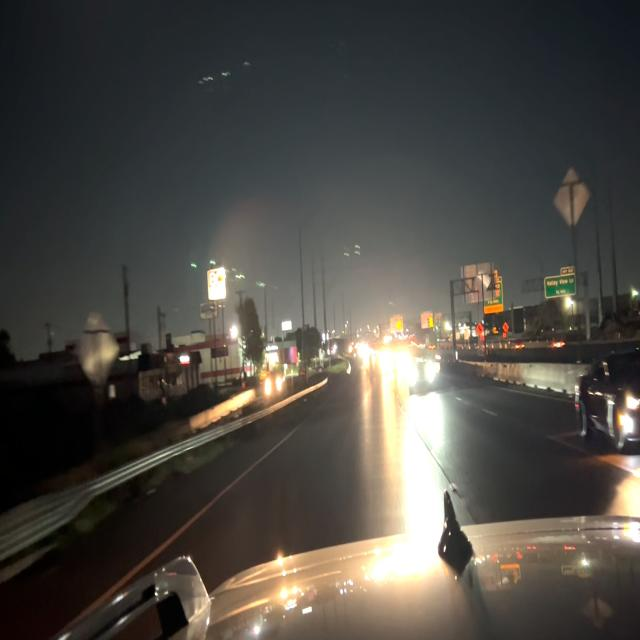back-of-sign: (553, 163, 592, 230), (459, 261, 495, 304)
